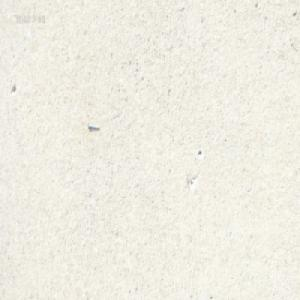Nail: (87, 122, 100, 130)
